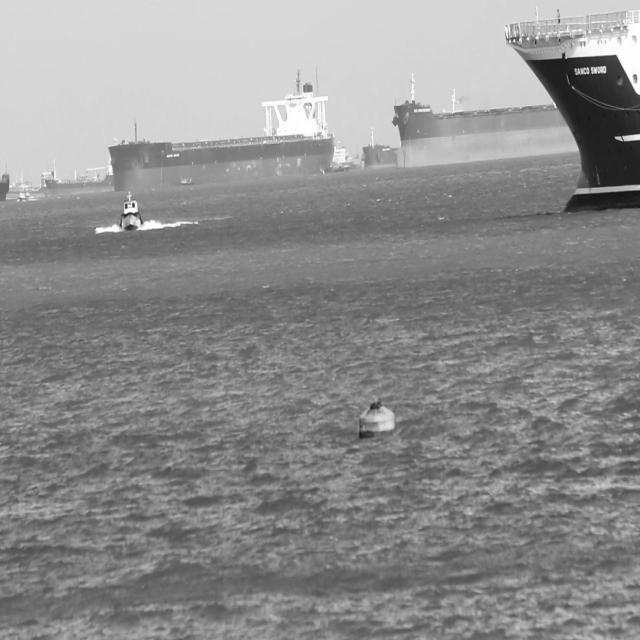buoy: (354, 381, 398, 432)
ship: (108, 61, 336, 191), (506, 2, 639, 214), (392, 66, 584, 166), (41, 155, 112, 192), (358, 120, 398, 166), (116, 188, 143, 234), (327, 129, 356, 171), (4, 165, 39, 196), (17, 185, 33, 204)
